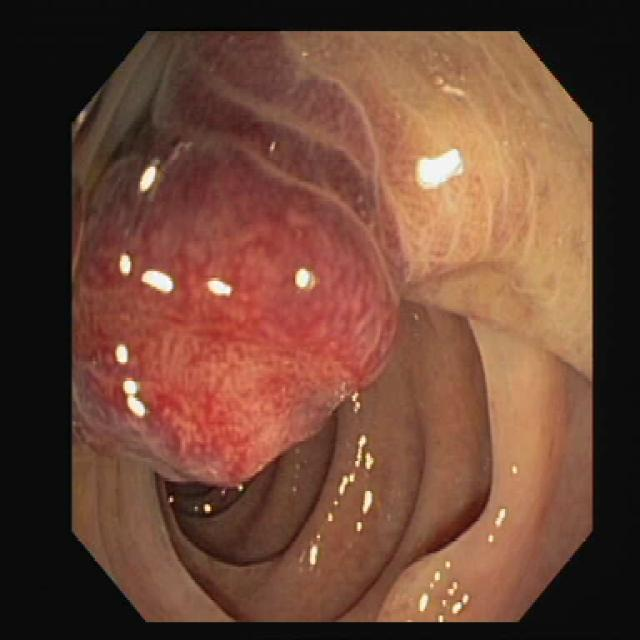tumor: (105, 84, 387, 482), (378, 569, 470, 620)
